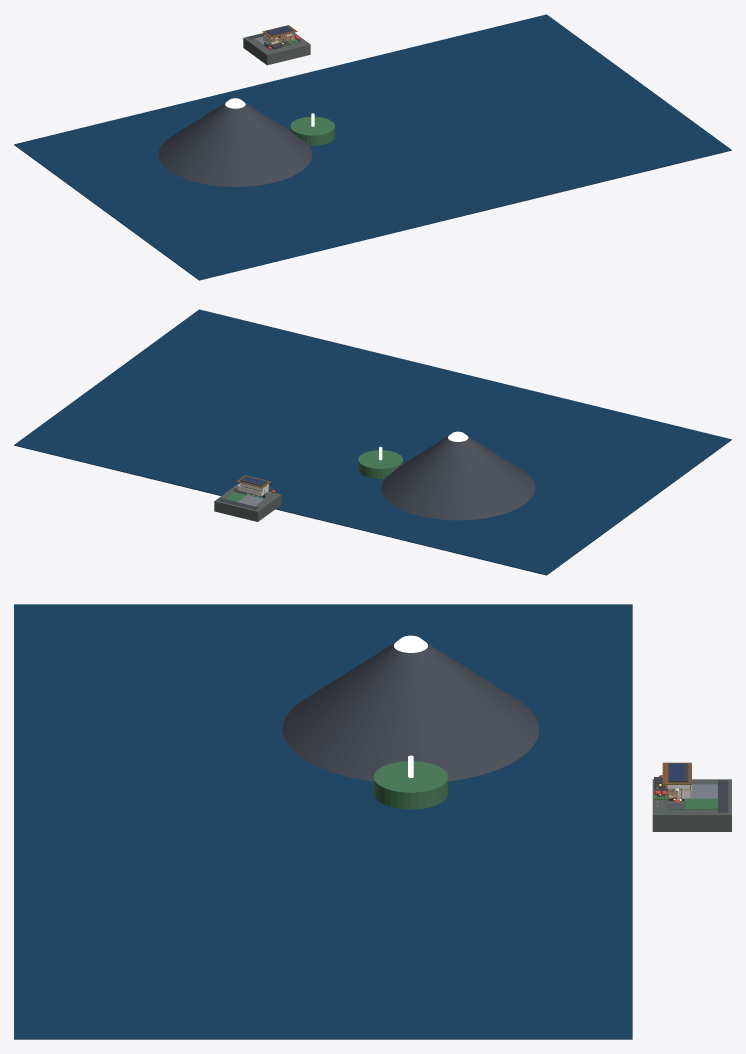
File: Villa_Ayame_Kamakurayama_Maqueta_3D.glb
The picture shows the model from 3 angles, top to bottom: view 1: azimuth 30°, elevation 25°; view 2: azimuth 150°, elevation 25°; view 3: azimuth 270°, elevation 25°; orthographic projection. The views are drawn at different scales.
Visible parts, largest first — view 1: Sagami_Bay_Ocean_Plane, Mount_Fuji_Base, Cliff_Bedrock_Mass, Enoshima_Island_Hill; view 2: Sagami_Bay_Ocean_Plane, Mount_Fuji_Base, Cliff_Bedrock_Mass, Enoshima_Island_Hill; view 3: Sagami_Bay_Ocean_Plane, Mount_Fuji_Base, Enoshima_Island_Hill, Cliff_Bedrock_Mass.
Boxes of the visible parts, x1,y1,x2,y2 form: Sagami_Bay_Ocean_Plane: (14,14,731,280); Mount_Fuji_Base: (158,103,312,186); Cliff_Bedrock_Mass: (243,32,310,65); Enoshima_Island_Hill: (290,116,335,145); Sagami_Bay_Ocean_Plane: (14,309,731,575); Mount_Fuji_Base: (381,436,534,520); Cliff_Bedrock_Mass: (214,484,281,521); Enoshima_Island_Hill: (358,450,402,478); Sagami_Bay_Ocean_Plane: (14,604,632,1039); Mount_Fuji_Base: (282,642,539,781); Enoshima_Island_Hill: (373,761,448,809); Cliff_Bedrock_Mass: (652,779,731,831).
Bounding box in the file's own units: 440 × 43.25 × 308.
